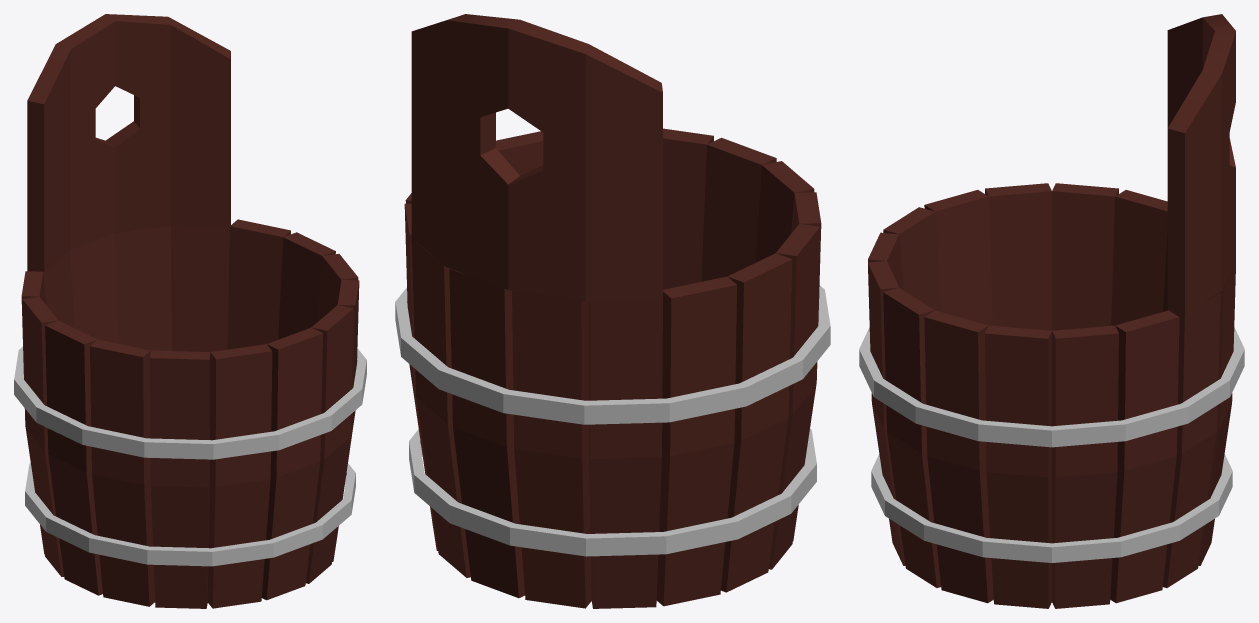
Rendered from bucket_2.FBX.
The picture shows the model from 3 angles, left to right: view 1: azimuth 30°, elevation 25°; view 2: azimuth 150°, elevation 25°; view 3: azimuth 270°, elevation 25°; orthographic projection. The views are drawn at different scales.
Visible parts, largest first — view 1: bucket_2; view 2: bucket_2; view 3: bucket_2.
Boxes of the visible parts, x1,y1,x2,y2 form: bucket_2: (14,14,366,608); bucket_2: (395,14,830,608); bucket_2: (859,14,1244,608).
Size of the model in its own units: 0.488 by 0.7143 by 0.488.
1 material, 1 textured.
